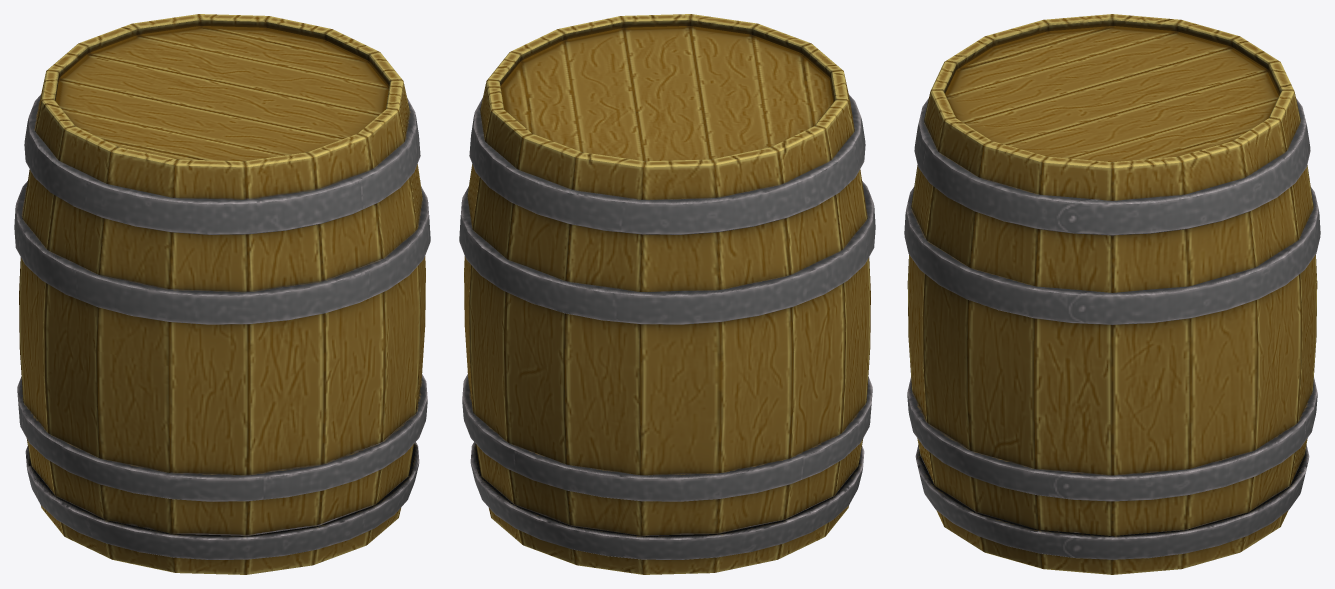
The model's file is BarrelTris.fbx.
3 renders of one model, left to right at view 1: azimuth 30°, elevation 25°; view 2: azimuth 150°, elevation 25°; view 3: azimuth 270°, elevation 25°, orthographic.
Parts seen in each view (by area): view 1: BarrelTris_LOD0; view 2: BarrelTris_LOD0; view 3: BarrelTris_LOD0.
Boxes of the visible parts, x1,y1,x2,y2 form: BarrelTris_LOD0: (14, 14, 430, 574); BarrelTris_LOD0: (459, 14, 875, 574); BarrelTris_LOD0: (904, 14, 1320, 574).
Bounding box in the file's own units: 92.36 × 92.36 × 100.
Materials: 1 (1 with a texture image).
